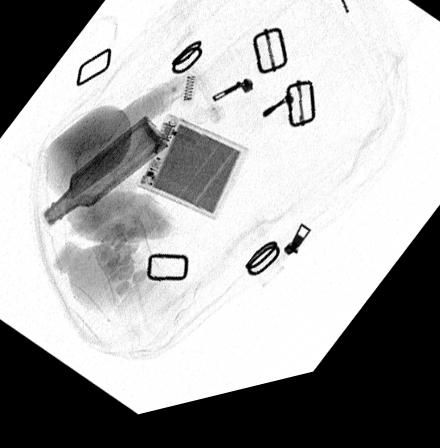Powerbank: (136, 122, 249, 230)
